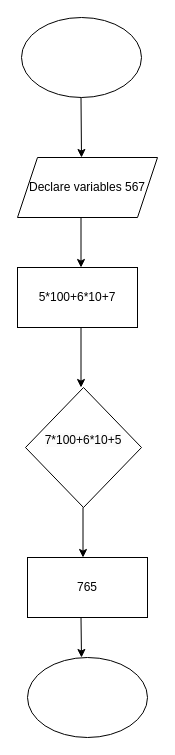
The diagram is 175 pixels wide and 755 high, and some of its shapes have lost their labels. The shapes that lost their labels are listed below. From the top down, each one's box as (x1, y1, x2, y2) in pixels, then its label:
(20, 16, 142, 98): Start
(26, 656, 148, 738): End
